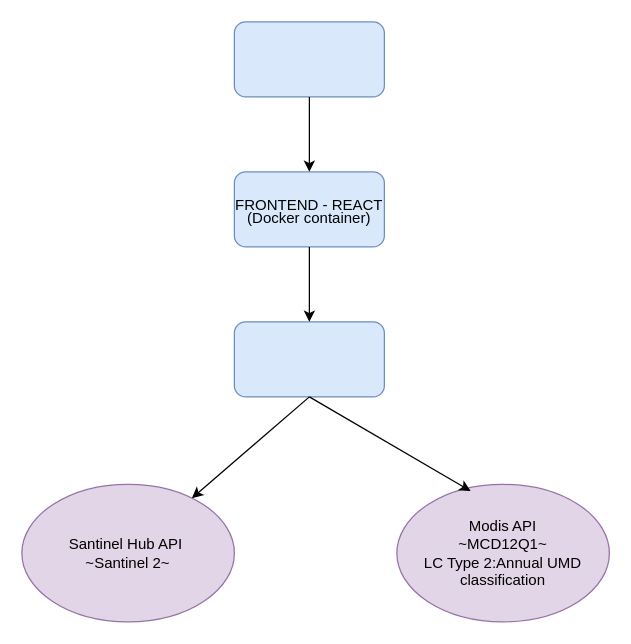
The diagram is 631 pixels wide and 644 high, and some of its shapes have lost their labels. The shapes that lost their labels are listed below. From the top down, each one's centre as x and y in pixels, then its label:
the point at 308,59: USER BROWSER
the point at 308,359: BACKEND - FastAPI/Python
